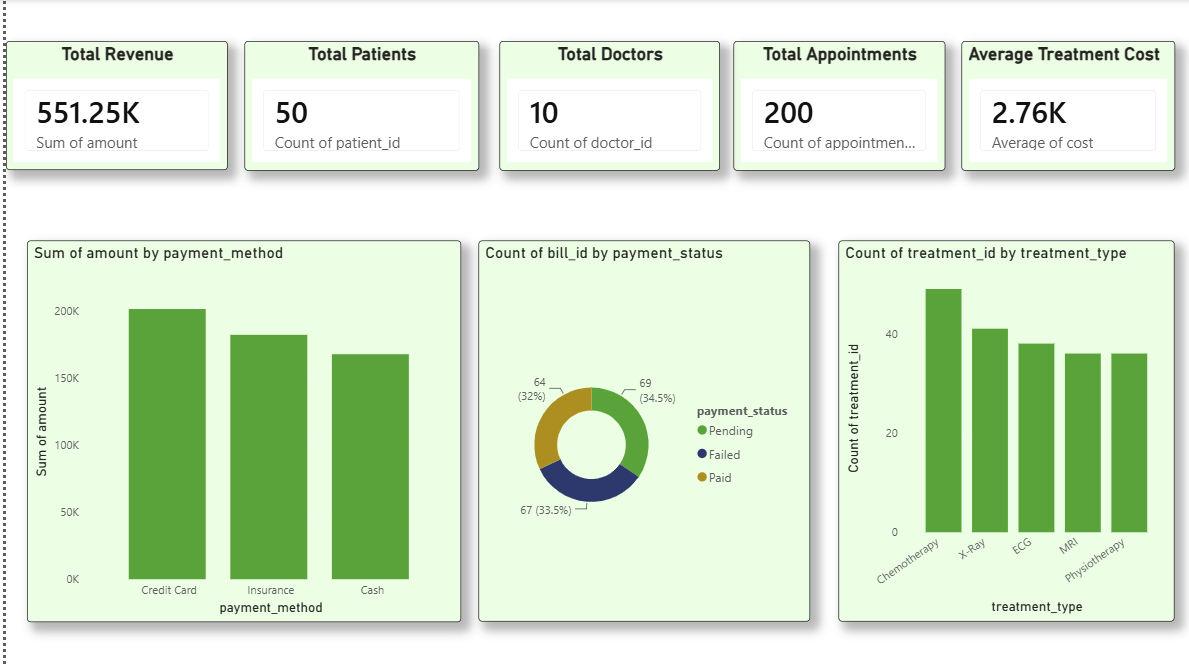

Layout of this report page (visuals, bound fields, positions):
{"tool":"powerbi","page":{"name":"Page 1","canvas":[1280,720],"ordinal":0},"visuals":[{"type":"cardVisual","title":"Total Revenue","fields":{"Data":["Sum(billing.amount)"]},"box":[0,45.3,239.6,139.3],"z":0},{"type":"cardVisual","title":"Total Appointments","fields":{"Data":["Count(appointments.appointment_id)"]},"box":[785.3,45.3,228.7,139.8],"z":1000},{"type":"cardVisual","title":"Total Patients","fields":{"Data":["CountNonNull(patients.patient_id)"]},"box":[257.5,45.3,253.2,139.8],"z":2000},{"type":"cardVisual","title":"Average Treatment Cost","fields":{"Data":["Avg(treatments.cost)"]},"box":[1031.4,45.3,230.6,139.8],"z":3000},{"type":"cardVisual","title":"Total Doctors","fields":{"Data":["CountNonNull(doctors.doctor_id)"]},"box":[532.7,45.3,238.1,139.8],"z":4000},{"type":"lineClusteredColumnComboChart","fields":{"Category":["billing.payment_method"],"Y":["Sum(billing.amount)"]},"box":[22.7,260.7,468.7,412],"z":5000},{"type":"donutChart","fields":{"Category":["billing.payment_status"],"Y":["CountNonNull(billing.bill_id)"]},"box":[510.1,260.7,357.8,411.3],"z":6000},{"type":"lineClusteredColumnComboChart","fields":{"Category":["treatments.treatment_type"],"Y":["CountNonNull(treatments.treatment_id)"]},"box":[898.7,260.7,362.7,411.3],"z":7000}]}

Visuals, with their boxes in screenshot pixels (x1, y1, x2, y2), scaled from the page's 1280x720 canvas onto the 1189x666 screenshot:
"Total Revenue" cardVisual: (left=0, top=42, right=223, bottom=171)
"Total Appointments" cardVisual: (left=729, top=42, right=942, bottom=171)
"Total Patients" cardVisual: (left=239, top=42, right=474, bottom=171)
"Average Treatment Cost" cardVisual: (left=958, top=42, right=1172, bottom=171)
"Total Doctors" cardVisual: (left=495, top=42, right=716, bottom=171)
lineClusteredColumnComboChart - billing.payment_method x Sum(billing.amount): (left=21, top=241, right=456, bottom=622)
donutChart - billing.payment_status x CountNonNull(billing.bill_id): (left=474, top=241, right=806, bottom=622)
lineClusteredColumnComboChart - treatments.treatment_type x CountNonNull(treatments.treatment_id): (left=835, top=241, right=1172, bottom=622)
